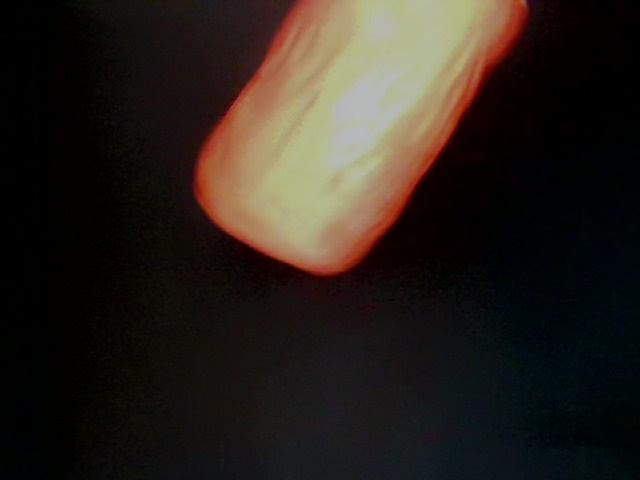QTLJ: (92, 202, 300, 371)
